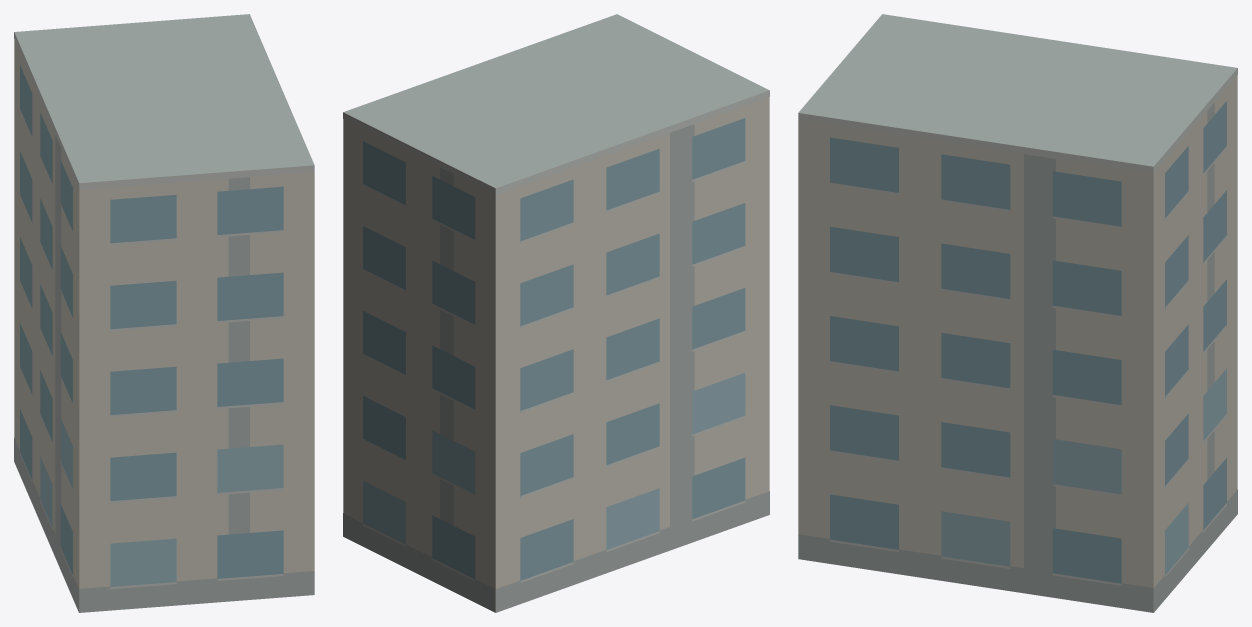
Rendered from residential-993296b6-18d9-4544-ba13-b383022663a6.glb.
The picture shows the model from 3 angles, left to right: view 1: azimuth 30°, elevation 25°; view 2: azimuth 150°, elevation 25°; view 3: azimuth 270°, elevation 25°; orthographic projection. The views are drawn at different scales.
Parts seen in each view (by area): view 1: residential-993296b6-18d9-4544-ba13-b383022663a6.tmp; view 2: residential-993296b6-18d9-4544-ba13-b383022663a6.tmp; view 3: residential-993296b6-18d9-4544-ba13-b383022663a6.tmp.
Part boxes in pixels (x1,y1,x2,y2): residential-993296b6-18d9-4544-ba13-b383022663a6.tmp: (14,14,314,612); residential-993296b6-18d9-4544-ba13-b383022663a6.tmp: (343,14,769,612); residential-993296b6-18d9-4544-ba13-b383022663a6.tmp: (798,14,1237,612).
Bounding box in the file's own units: 11.2 × 15.25 × 13.63.
